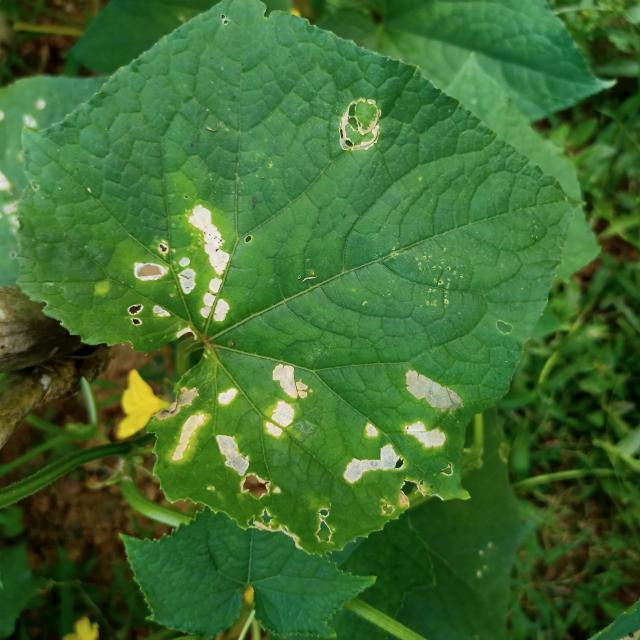disease_cucumber: (128, 200, 240, 347), (154, 381, 253, 490), (400, 366, 465, 456), (258, 363, 311, 443), (340, 419, 399, 486)
